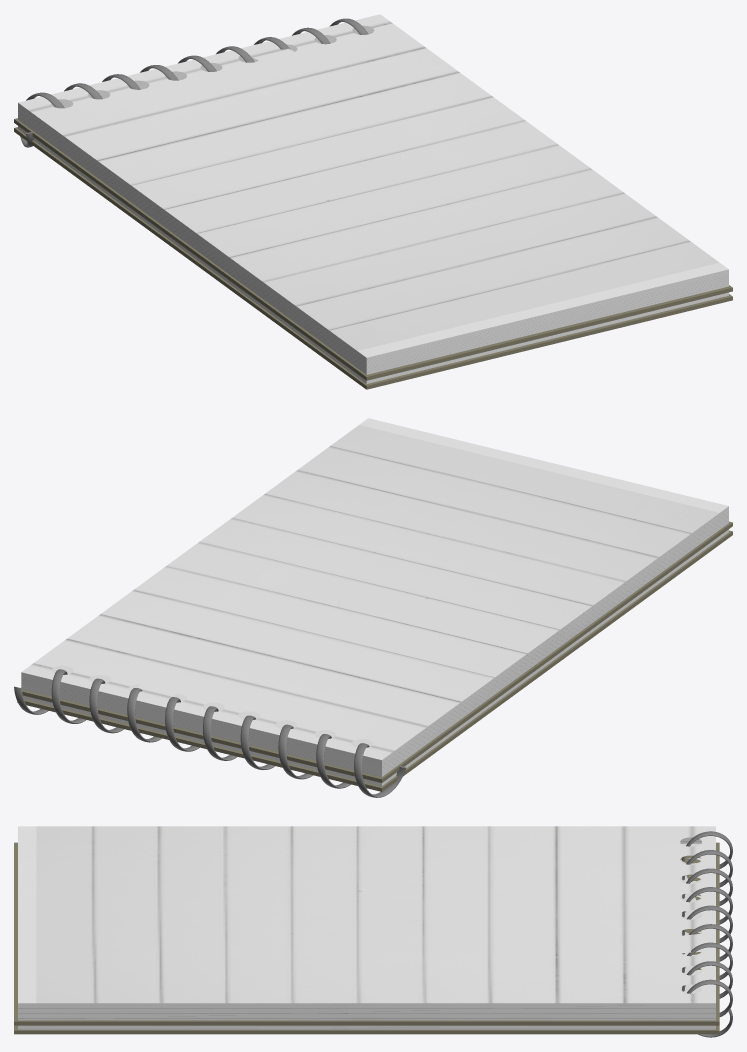
Rendered from PS_FoldedNotepad_15_DF.fbx.
The picture shows the model from 3 angles, top to bottom: view 1: azimuth 30°, elevation 25°; view 2: azimuth 150°, elevation 25°; view 3: azimuth 270°, elevation 25°; orthographic projection.
Parts seen in each view (by area): view 1: Paper, FrontandBackCover, MetalSpiral2; view 2: Paper, FrontandBackCover, MetalSpiral2; view 3: Paper, FrontandBackCover, MetalSpiral2.
Boxes of the visible parts, x1,y1,x2,y2 form: Paper: [18, 14, 728, 383]; FrontandBackCover: [14, 118, 732, 389]; MetalSpiral2: [20, 18, 368, 147]; Paper: [21, 418, 728, 786]; FrontandBackCover: [17, 521, 732, 791]; MetalSpiral2: [14, 669, 405, 797]; Paper: [18, 826, 715, 1029]; FrontandBackCover: [14, 842, 719, 1034]; MetalSpiral2: [682, 831, 732, 1037].
Size of the model in its own units: 0.0775 by 0.00915 by 0.1294.
3 materials, 1 textured.
